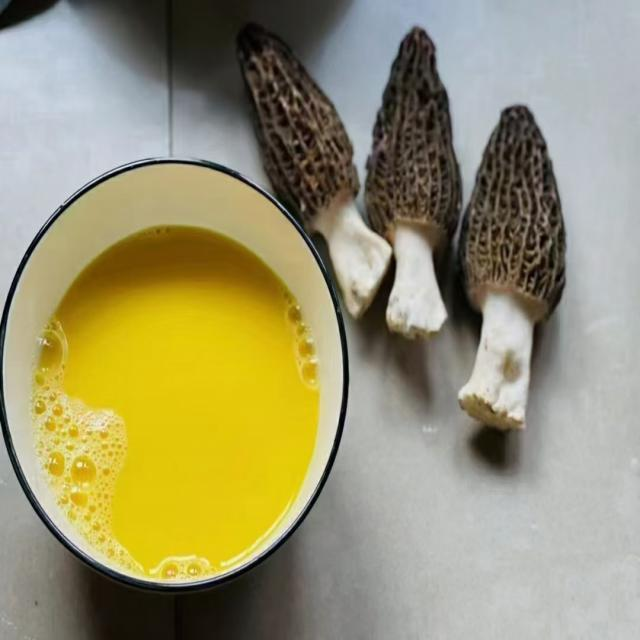Morchella esculenta: (243, 25, 390, 322), (453, 104, 568, 435), (369, 24, 461, 335)
